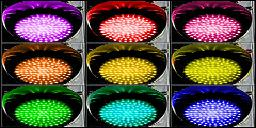LED: (90, 4, 161, 45), (175, 3, 242, 43), (93, 90, 161, 128), (3, 5, 74, 41), (182, 90, 246, 128), (8, 53, 76, 83), (93, 50, 158, 81), (14, 96, 70, 128)
